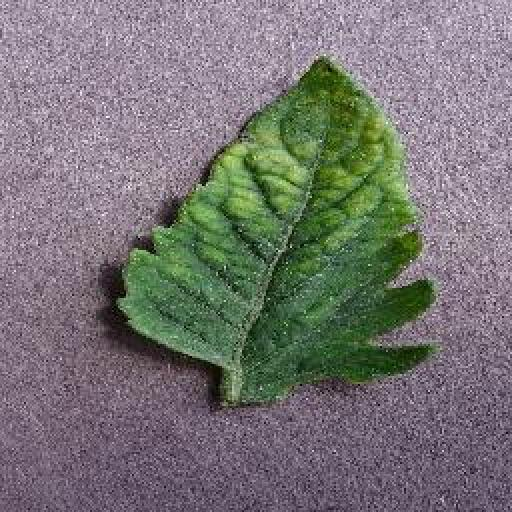Mosaic Virus: (108, 52, 442, 400)
